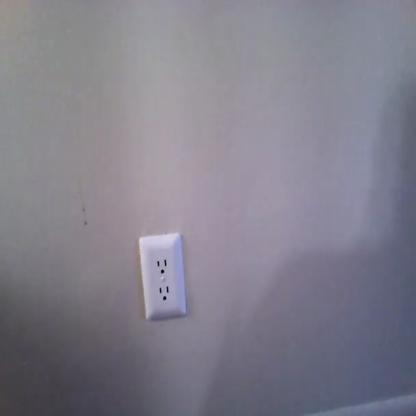OUTLET: (138, 233, 187, 316)
